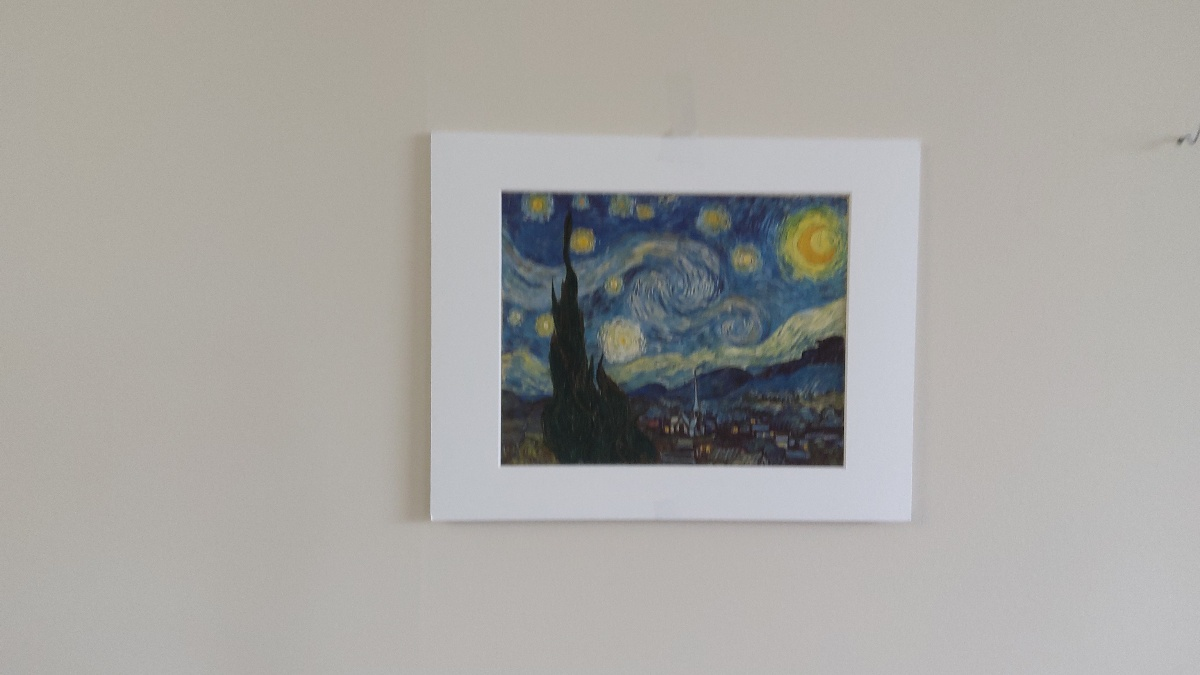painting: (493, 176, 853, 467)
